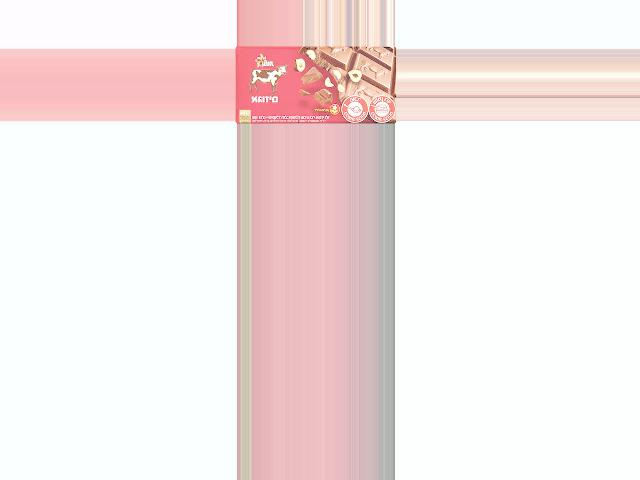chocolate: (234, 47, 395, 121)
